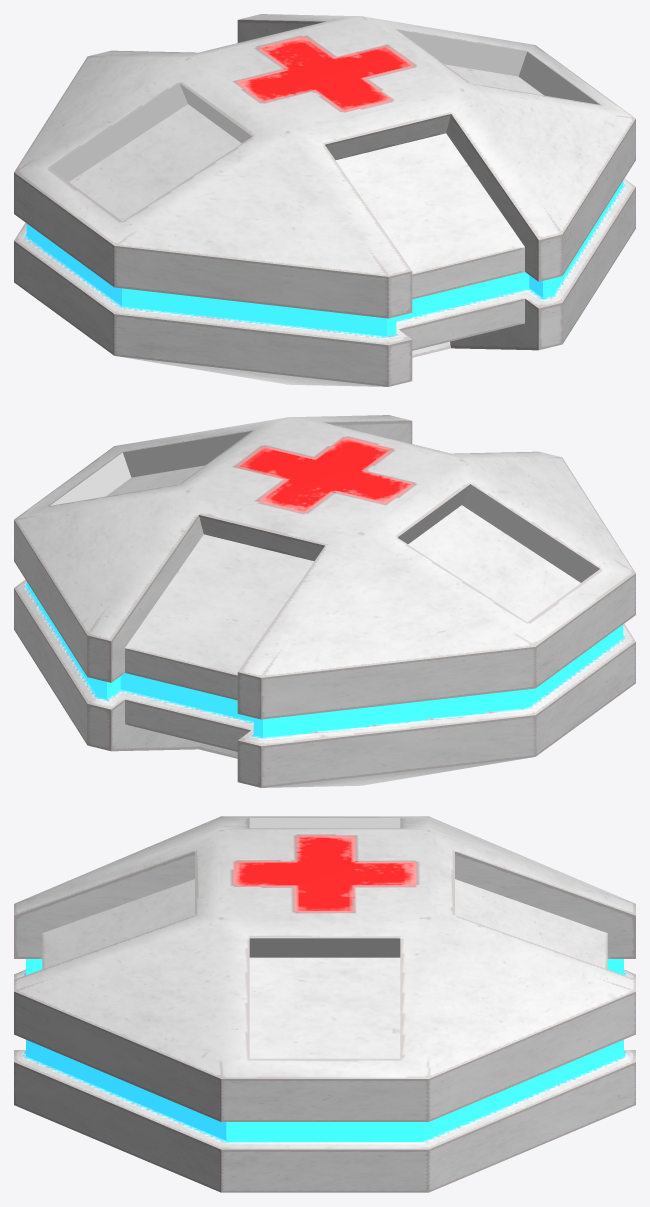
File: medkit.glb
The picture shows the model from 3 angles, top to bottom: view 1: azimuth 30°, elevation 25°; view 2: azimuth 150°, elevation 25°; view 3: azimuth 270°, elevation 25°; orthographic projection. The views are drawn at different scales.
Parts seen in each view (by area): view 1: MedKit_LPoly; view 2: MedKit_LPoly; view 3: MedKit_LPoly.
Boxes of the visible parts, box(x1,y1,x2,y2) form: MedKit_LPoly: box(14, 14, 635, 386); MedKit_LPoly: box(14, 415, 635, 787); MedKit_LPoly: box(14, 816, 635, 1192).
Size of the model in its own units: 0.77 by 0.3564 by 0.77.
Materials: 1 (1 with a texture image).
